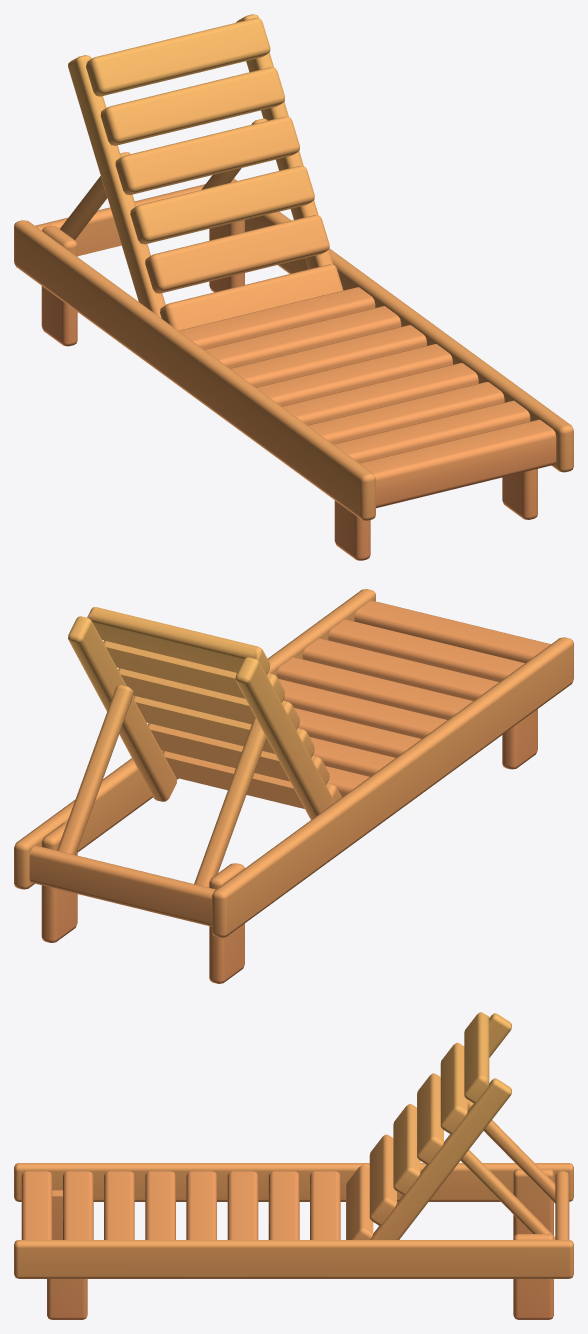
Rendered from Couch_13.glb.
3 renders of one model, top to bottom at view 1: azimuth 30°, elevation 25°; view 2: azimuth 150°, elevation 25°; view 3: azimuth 270°, elevation 25°, orthographic. The views are drawn at different scales.
Visible parts, largest first — view 1: Couch_13; view 2: Couch_13; view 3: Couch_13.
Part boxes in pixels (x1,y1,x2,y2): Couch_13: [14, 14, 573, 560]; Couch_13: [14, 589, 573, 983]; Couch_13: [14, 1012, 573, 1319].
Size of the model in its own units: 0.7 by 0.9551 by 2.
Materials: 1 (1 with a texture image).
